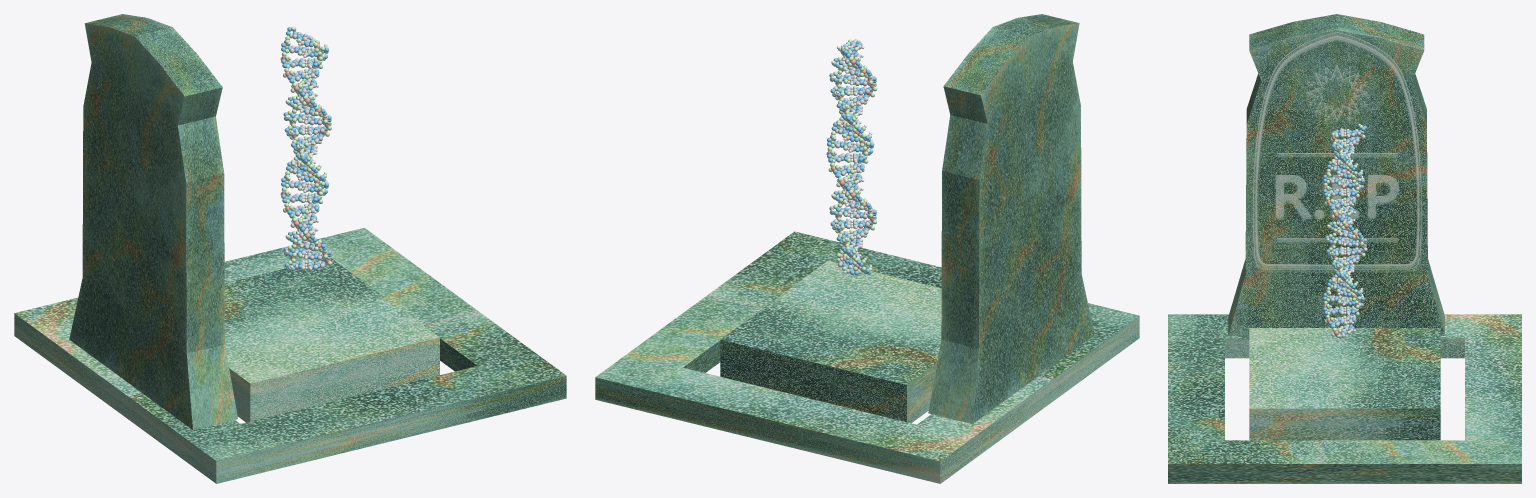
Rendered from meme4.glb.
3 views of the same model, side by side, from view 1: azimuth 30°, elevation 25°; view 2: azimuth 150°, elevation 25°; view 3: azimuth 270°, elevation 25° (orthographic). The views are drawn at different scales.
Visible parts, largest first — view 1: Cube.034, Cube.026, Cube.027, Object_13; view 2: Cube.034, Cube.026, Cube.027, Object_13; view 3: Cube.034, Cube.026, Cube.027, Object_13.
Boxes of the visible parts, left/top/right/bottom form: Cube.034: left=69, top=14, right=237, bottom=429; Cube.026: left=14, top=227, right=566, bottom=483; Cube.027: left=224, top=258, right=439, bottom=422; Object_13: left=280, top=26, right=331, bottom=271; Cube.034: left=928, top=14, right=1094, bottom=424; Cube.026: left=595, top=231, right=1139, bottom=483; Cube.027: left=720, top=261, right=941, bottom=423; Object_13: left=826, top=39, right=876, bottom=275; Cube.034: left=1228, top=14, right=1444, bottom=335; Cube.026: left=1168, top=314, right=1521, bottom=483; Cube.027: left=1249, top=328, right=1440, bottom=440; Object_13: left=1322, top=123, right=1367, bottom=338.
Bounding box in the file's own units: 0.7549 × 0.7688 × 0.7549.
Materials: 7 (2 with a texture image).
